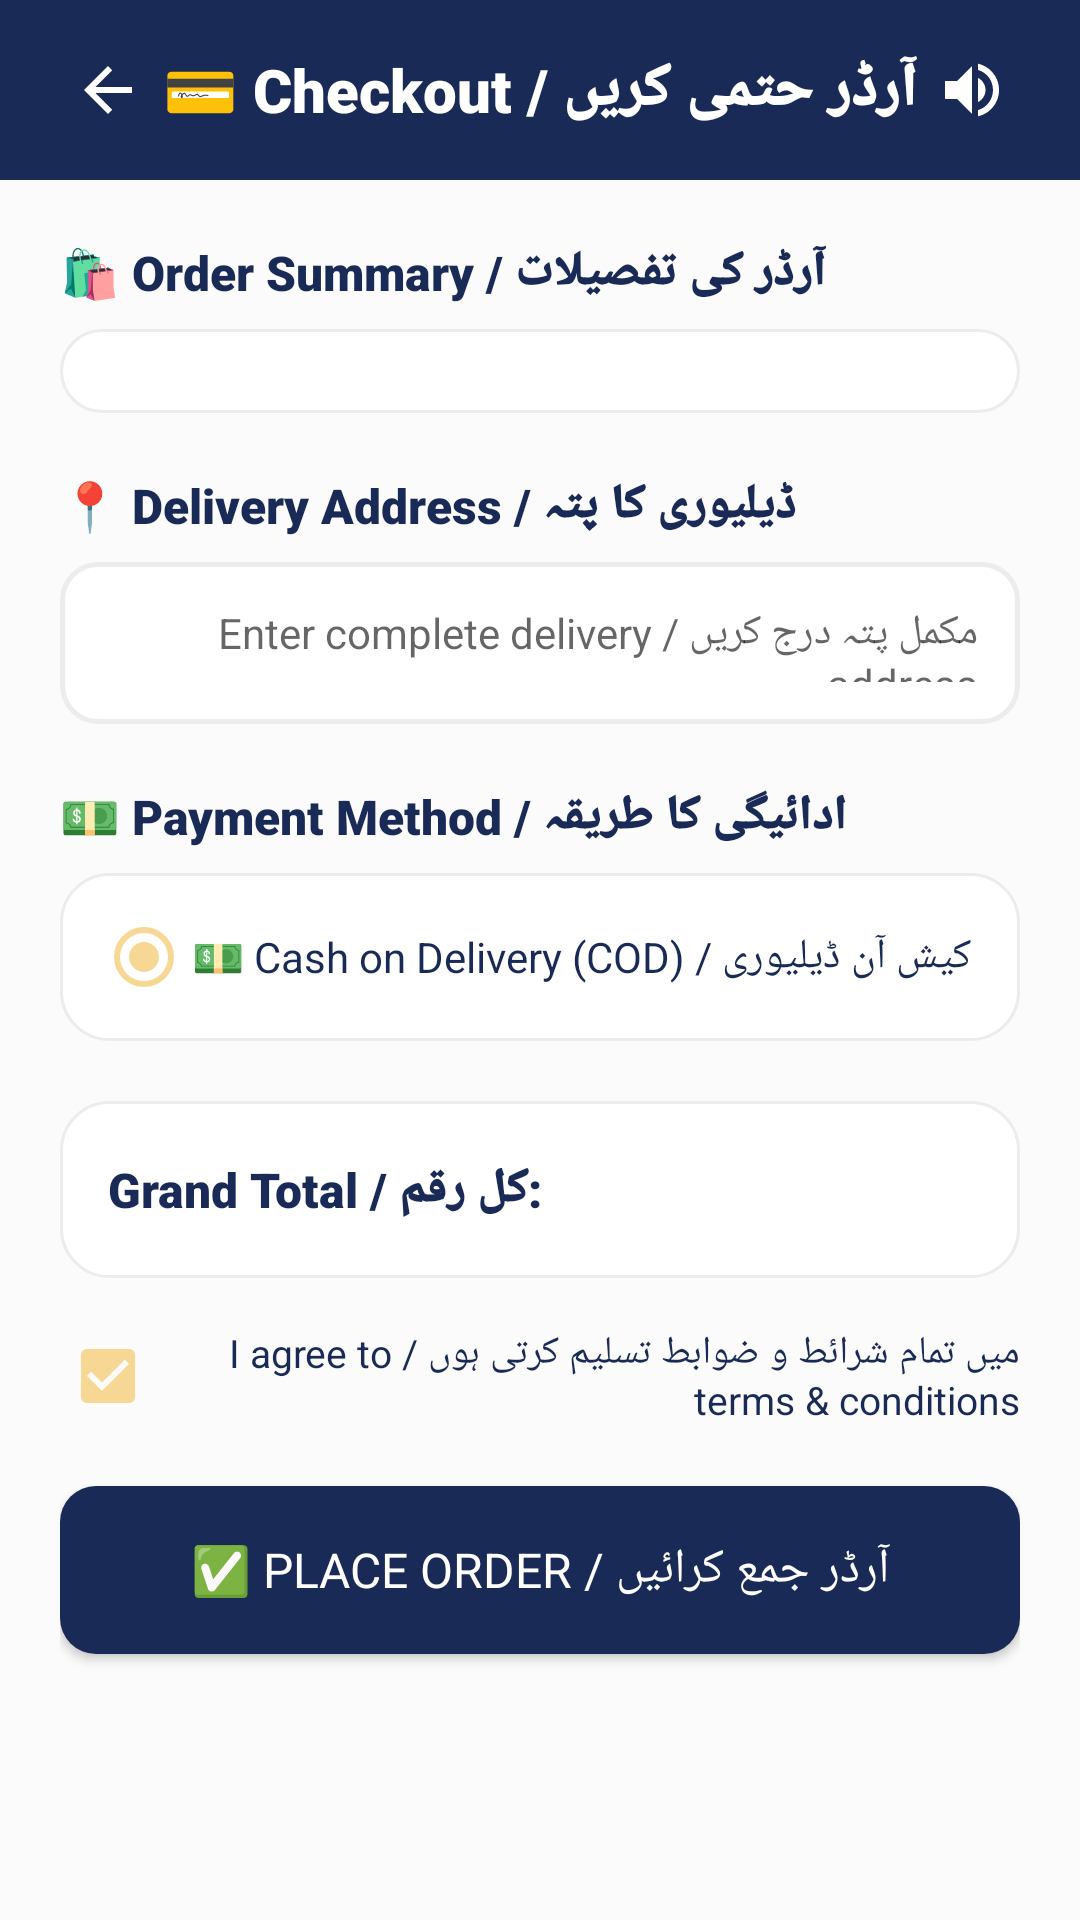

Screen size 1080px×1920px. Icon name, then its center in pixels as (x,y):
Back: (108,90)
Speaker: (972,90)
